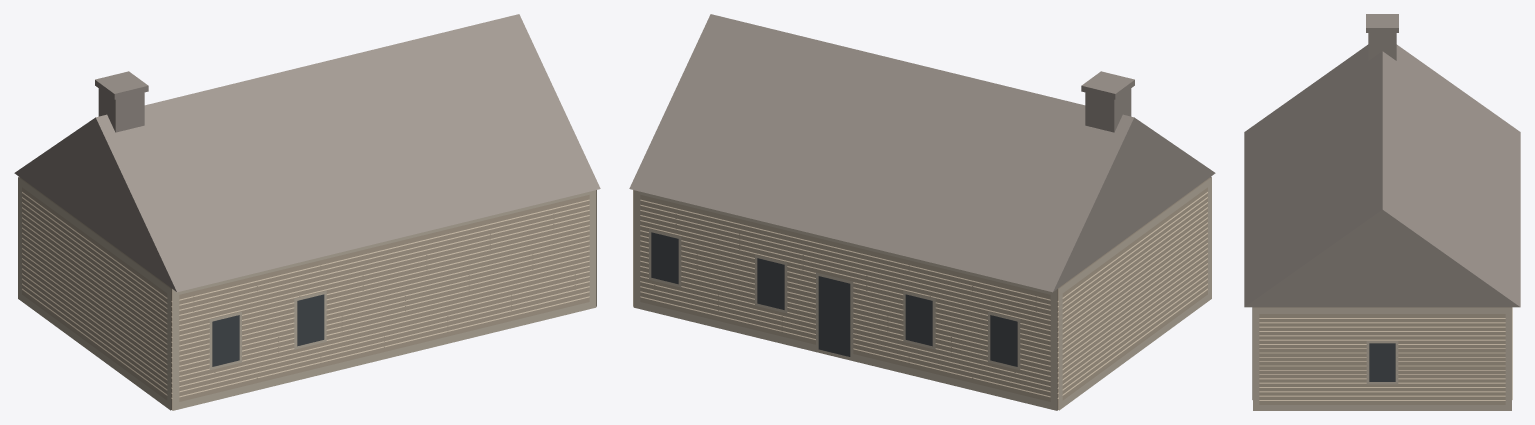
File: first_presbyterian_church__frame_1834.glb
3 renders of one model, left to right at view 1: azimuth 30°, elevation 25°; view 2: azimuth 150°, elevation 25°; view 3: azimuth 270°, elevation 25°, orthographic. The views are drawn at different scales.
Visible parts, largest first — view 1: first_presbyterian_church__frame_1834; view 2: first_presbyterian_church__frame_1834; view 3: first_presbyterian_church__frame_1834.
Boxes of the visible parts, left/top/right/bottom form: first_presbyterian_church__frame_1834: left=14, top=14, right=600, bottom=410; first_presbyterian_church__frame_1834: left=629, top=14, right=1215, bottom=410; first_presbyterian_church__frame_1834: left=1244, top=14, right=1520, bottom=410.
Size of the model in its own units: 12.27 by 7.3 by 8.12.
